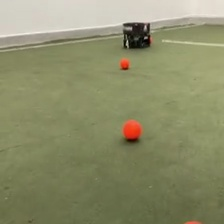ball: (122, 118, 142, 143), (119, 58, 130, 69)
robot: (122, 20, 151, 49)
